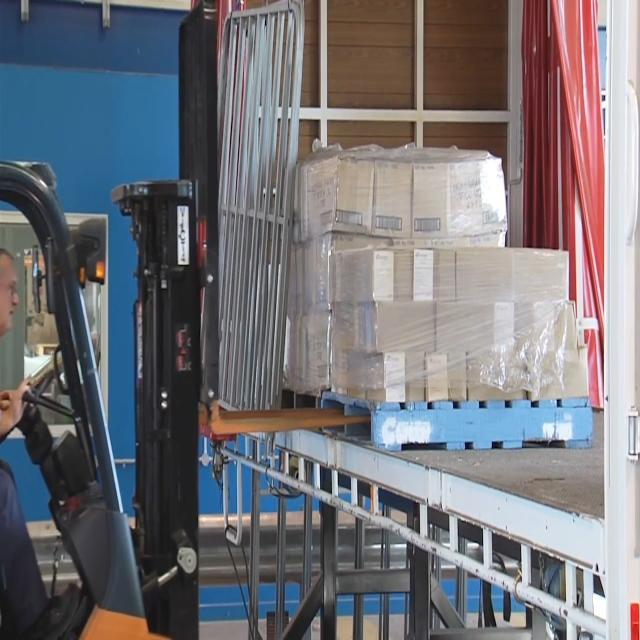box: (282, 131, 599, 411)
forklift: (0, 0, 370, 640)
pallets: (313, 373, 598, 466)
person: (0, 202, 111, 640)
